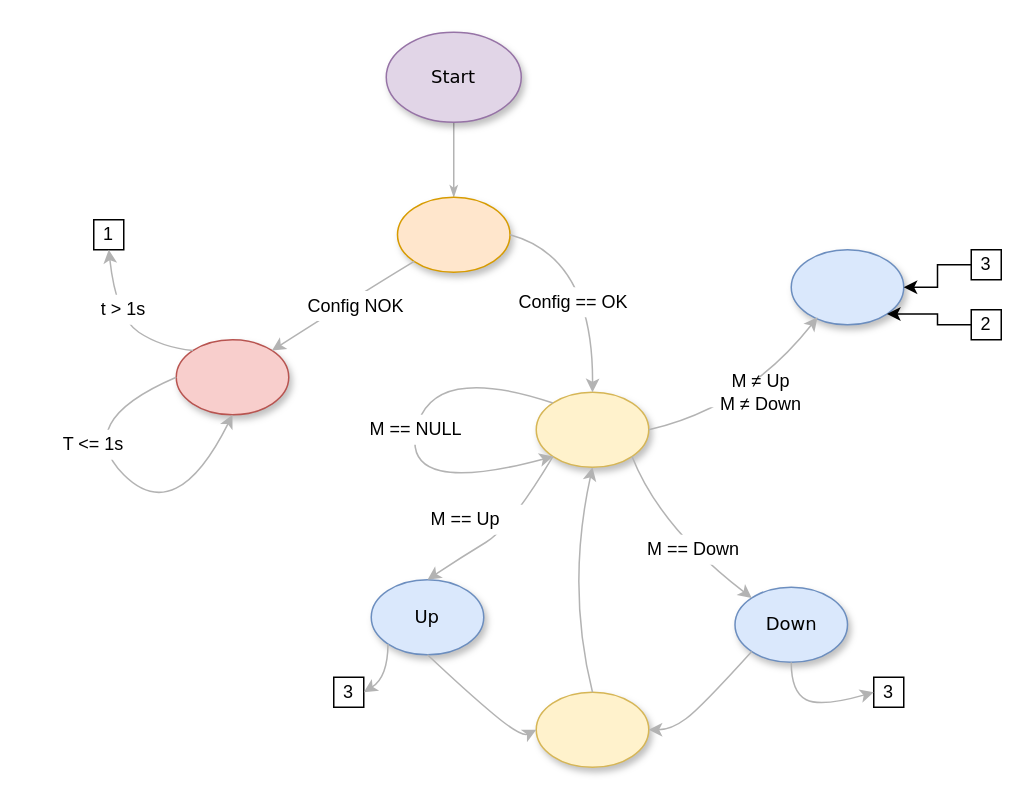
The diagram is 1028 pixels wide and 804 high, and some of its shapes have lost their labels. Here are the shapes that lost their labels. From the top down, the centre of each, then its label:
At pixel 454 236: "Configuring".
At pixel 848 288: "Send Error".
At pixel 233 378: "Error".
At pixel 593 431: "Read Message".
At pixel 593 731: "Send Confirm".
